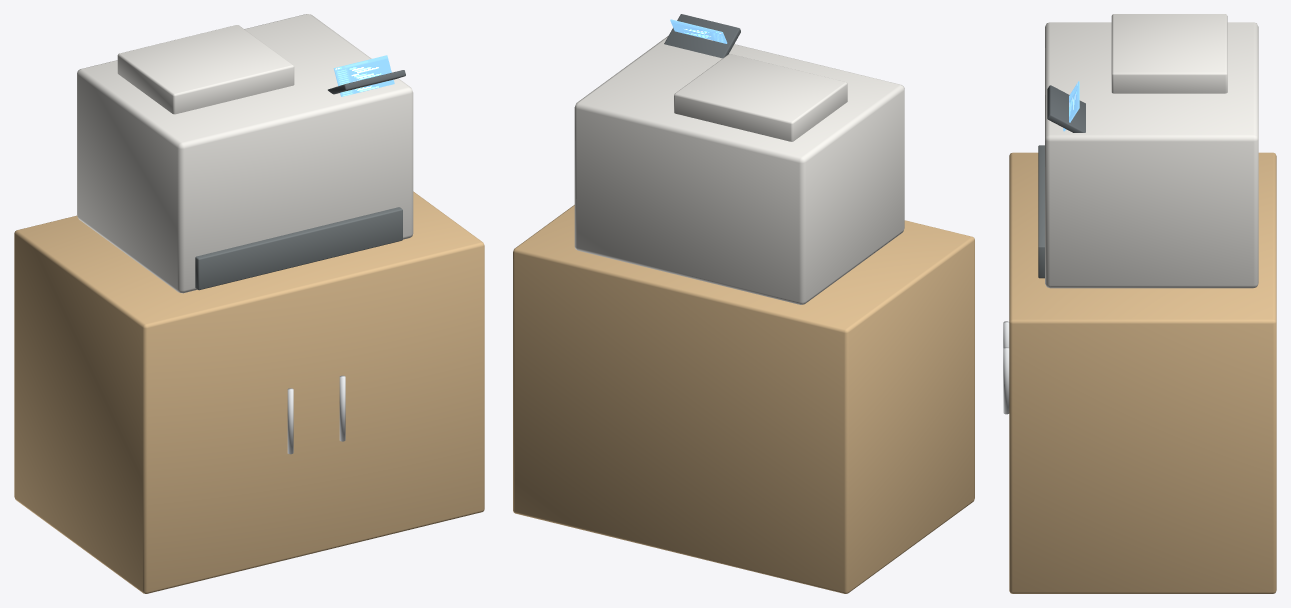
File: utility.printer-cabinet.glb
3 views of the same model, side by side, from view 1: azimuth 30°, elevation 25°; view 2: azimuth 150°, elevation 25°; view 3: azimuth 270°, elevation 25° (orthographic). The views are drawn at different scales.
Parts seen in each view (by area): view 1: utility.printer-cabinet; view 2: utility.printer-cabinet; view 3: utility.printer-cabinet.
Boxes of the visible parts, x1,y1,x2,y2 form: utility.printer-cabinet: (14, 14, 484, 593); utility.printer-cabinet: (513, 14, 974, 593); utility.printer-cabinet: (1003, 14, 1276, 593).
Size of the model in its own units: 0.9 by 1.13 by 0.613.
Materials: 6 (1 with a texture image).
